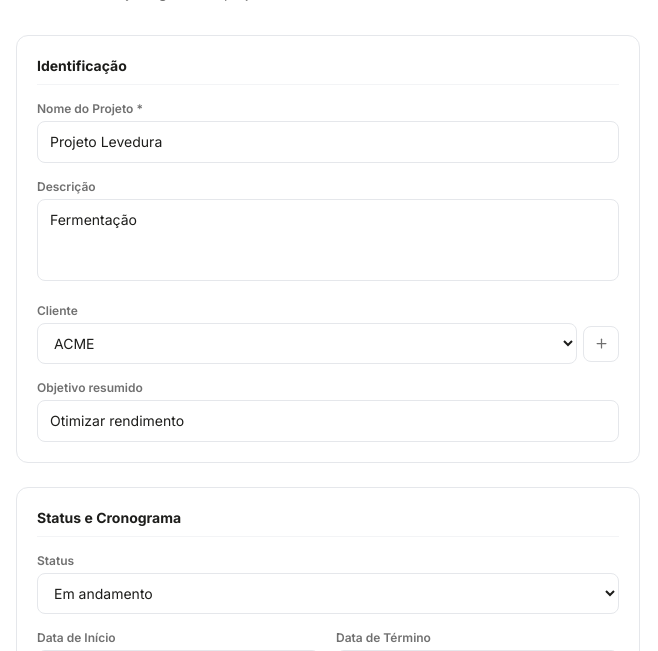
ProjectSettingsClient › should show the server message when saving fails
The image size is (658, 651).
Type " II" into the field labelled "Nome do Projeto *" at (328, 142), box [37,121,619,163]
(page scrolled)
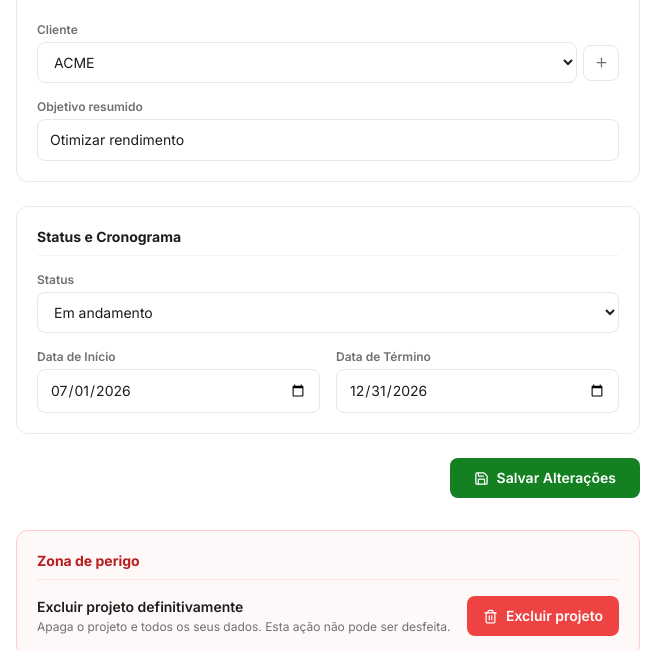
Click the button "Salvar Alterações" at (545, 478), box [450,458,640,498]
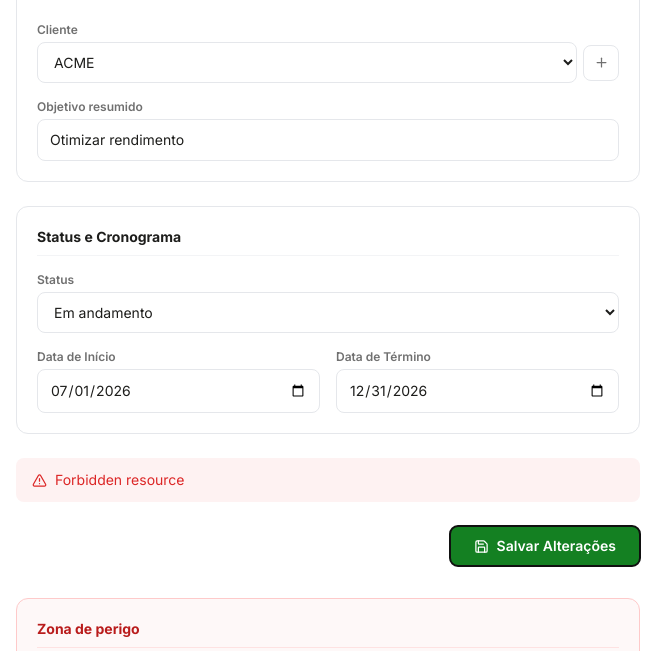
Expected: the text "Forbidden resource" is shown, [16,458,640,502]
